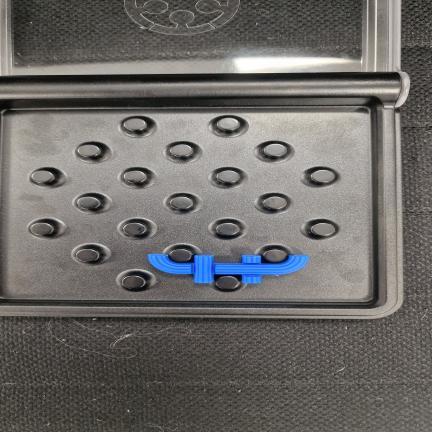C_DarkBlue: (148, 254, 308, 283)
board: (0, 73, 403, 319)
hinge: (0, 73, 398, 101)
pin: (123, 117, 147, 133), (310, 222, 335, 237), (262, 248, 287, 263), (170, 143, 194, 158), (216, 222, 240, 237), (263, 143, 288, 157), (310, 169, 335, 183), (123, 170, 148, 184), (169, 196, 194, 210), (75, 248, 100, 262), (216, 117, 240, 131), (77, 144, 101, 158), (216, 170, 240, 184), (31, 170, 55, 184), (263, 196, 287, 210), (77, 196, 101, 210), (123, 222, 147, 236), (30, 222, 54, 236), (169, 248, 193, 262), (216, 276, 240, 290), (122, 275, 146, 289)
